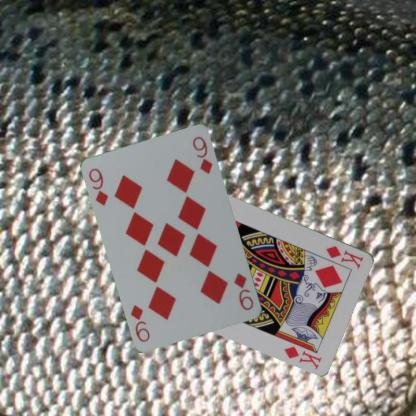9d: (86, 166, 110, 207), (232, 270, 255, 312)
Kd: (324, 242, 365, 270)
